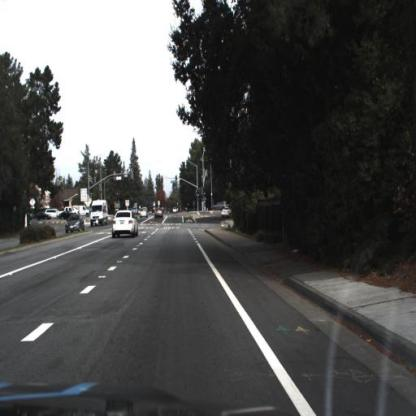car: (88, 195, 111, 235), (113, 208, 139, 241), (65, 213, 86, 237), (64, 216, 89, 234), (60, 206, 78, 218), (59, 212, 75, 224), (154, 206, 166, 222), (50, 207, 62, 219), (139, 208, 150, 220)
trafficLight-Green: (174, 174, 182, 186), (196, 189, 202, 203), (204, 187, 209, 199)
trafficLight-Red: (160, 172, 166, 188)
truck: (90, 198, 108, 229)
